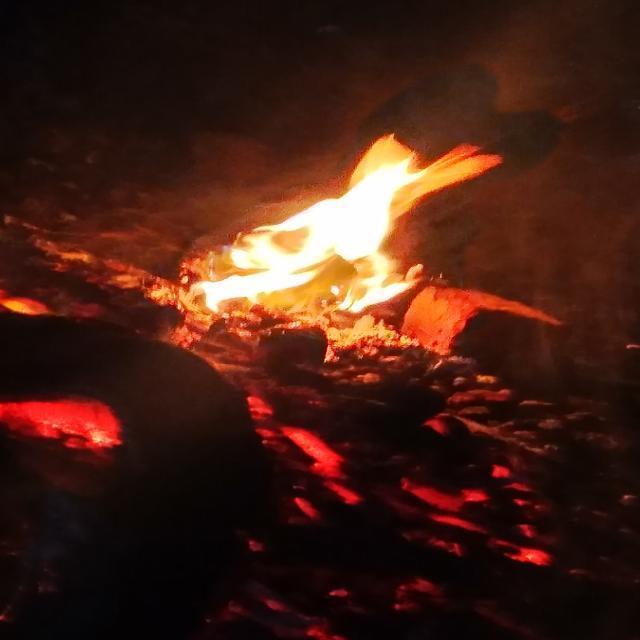Fire: (192, 132, 503, 316)
